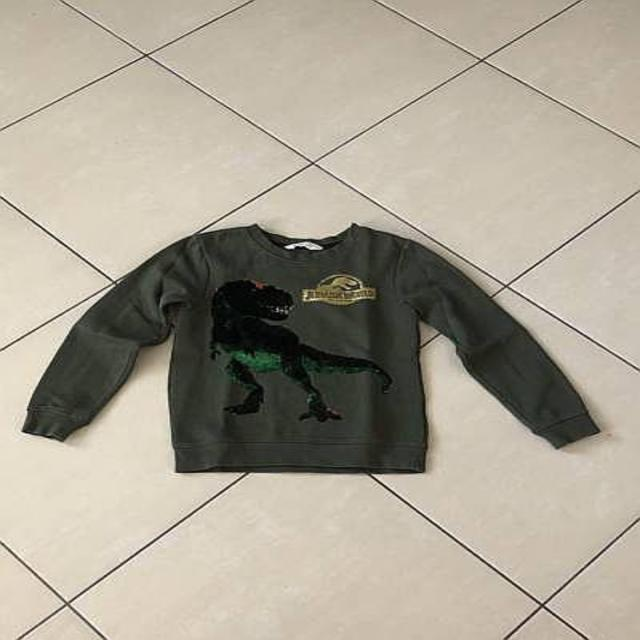SHIRT: (21, 210, 606, 482)
